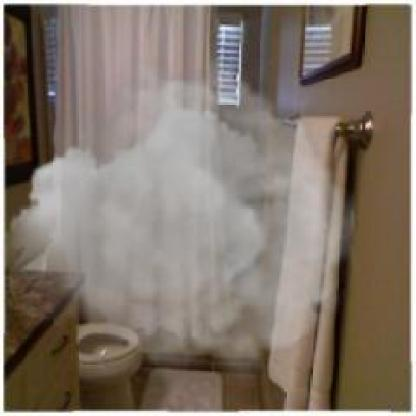Smoke: (2, 44, 354, 393)
